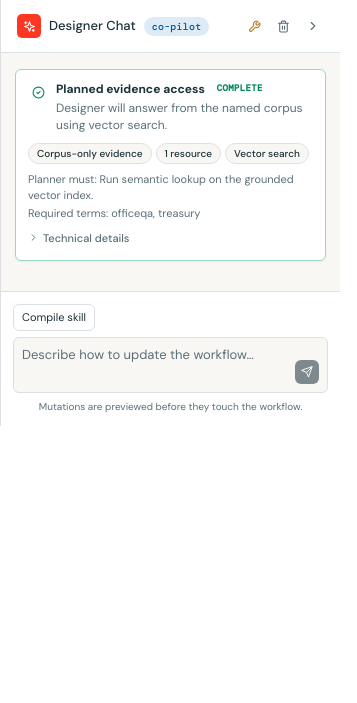
Test case: ChatPanel › keeps raw Designer JSON hidden until technical details are expanded
The width and height of the screenshot is (357, 703).
Expected: the text "Planned evidence access" is shown, x1=56 y1=80 x2=205 y2=98
Expected: the text "Designer will answer from the named corpus using vector search." is shown, x1=56 y1=100 x2=313 y2=135
Click the button "Technical details" at point(79, 238), box x1=28 y1=230 x2=130 y2=246
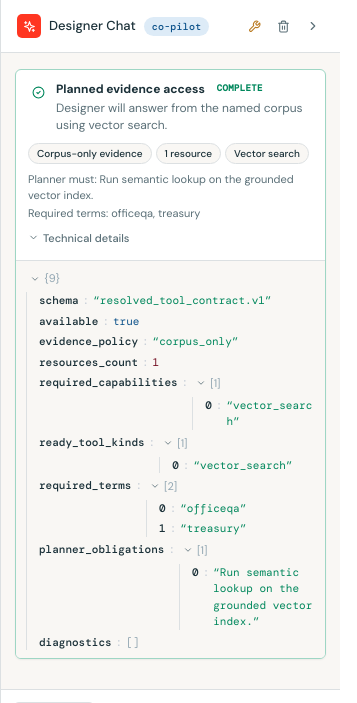
Now the text "“resolved_tool_contract.v1”" is shown, box x1=93 y1=293 x2=271 y2=307
